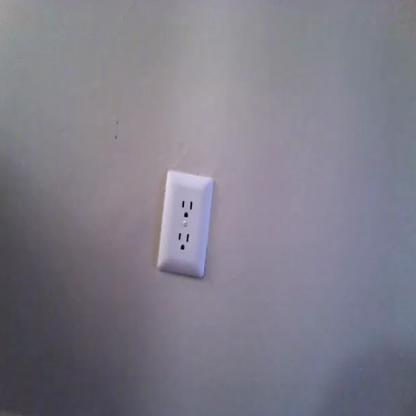OUTLET: (160, 172, 212, 278)
